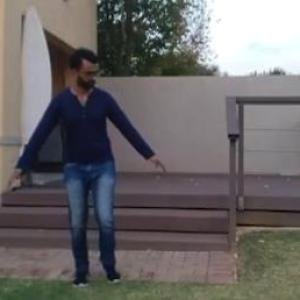land: (6, 35, 164, 287)
